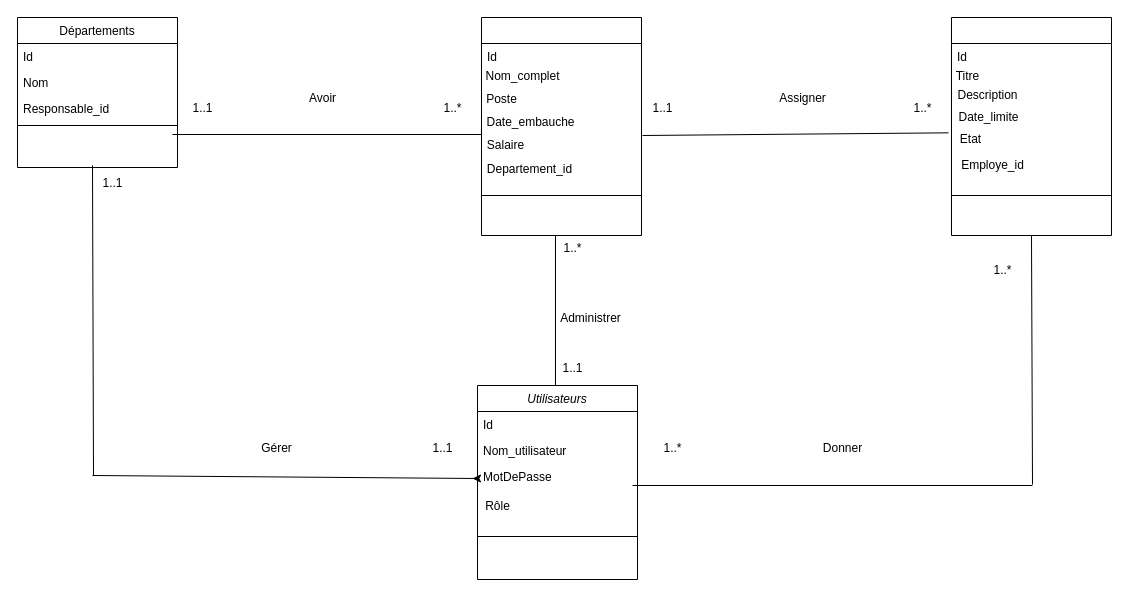
The diagram is 1130 pixels wide and 597 high, and some of its shapes have lost their labels. The box of each missing label's shape, as (x1, y1, x2, y2) in pixels:
Employées: (480, 16, 642, 236)
Tâches: (950, 16, 1112, 236)
